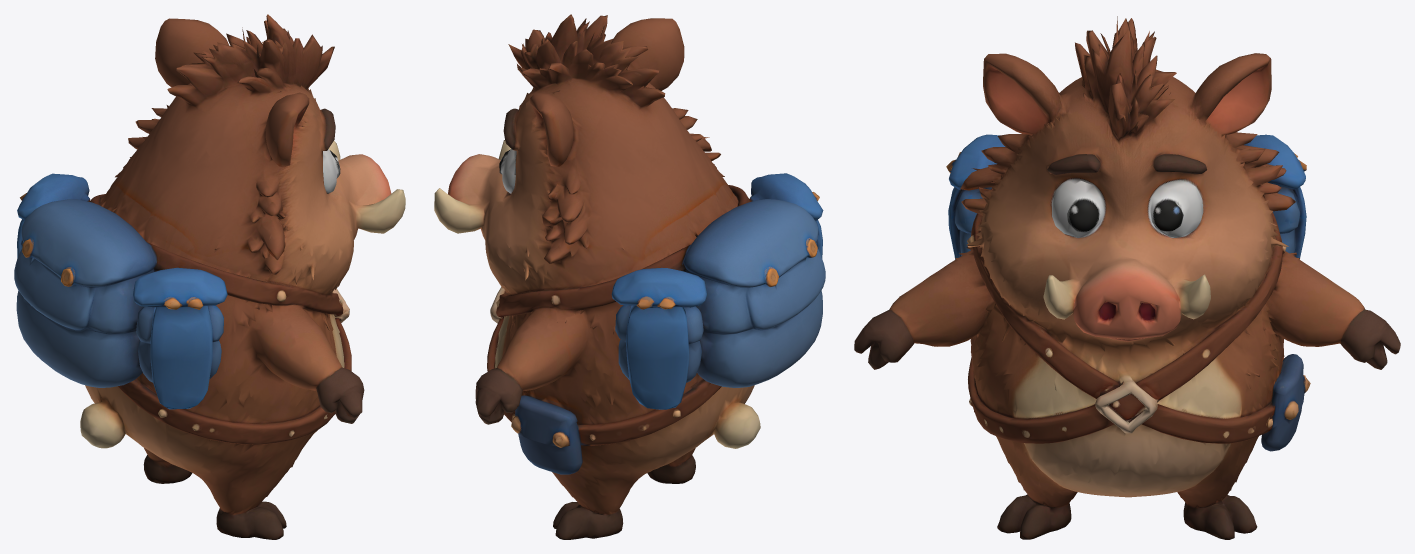
The model's file is tusk.glb.
3 views of the same model, side by side, from view 1: azimuth 30°, elevation 25°; view 2: azimuth 150°, elevation 25°; view 3: azimuth 270°, elevation 25° (orthographic). The views are drawn at different scales.
Parts seen in each view (by area): view 1: tripo_node_40be8503-1adc-4172-a487-b0e53e25f8b2; view 2: tripo_node_40be8503-1adc-4172-a487-b0e53e25f8b2; view 3: tripo_node_40be8503-1adc-4172-a487-b0e53e25f8b2.
Boxes of the visible parts, <box> form: tripo_node_40be8503-1adc-4172-a487-b0e53e25f8b2: <box>14,14,405,539</box>; tripo_node_40be8503-1adc-4172-a487-b0e53e25f8b2: <box>434,14,825,539</box>; tripo_node_40be8503-1adc-4172-a487-b0e53e25f8b2: <box>854,16,1400,539</box>.
Size of the model in its own units: 0.7359 by 0.9731 by 0.916.
Materials: 1 (1 with a texture image).
